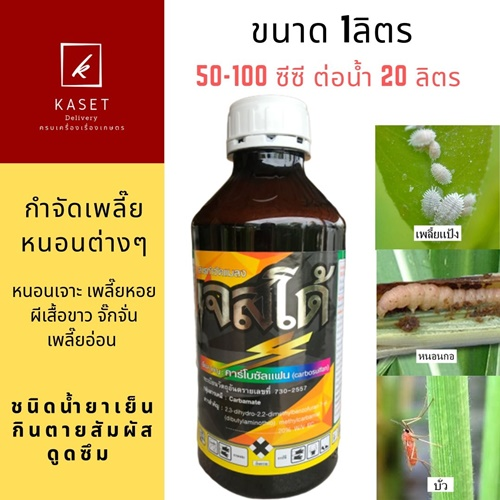Insecticide: (187, 91, 349, 500)
